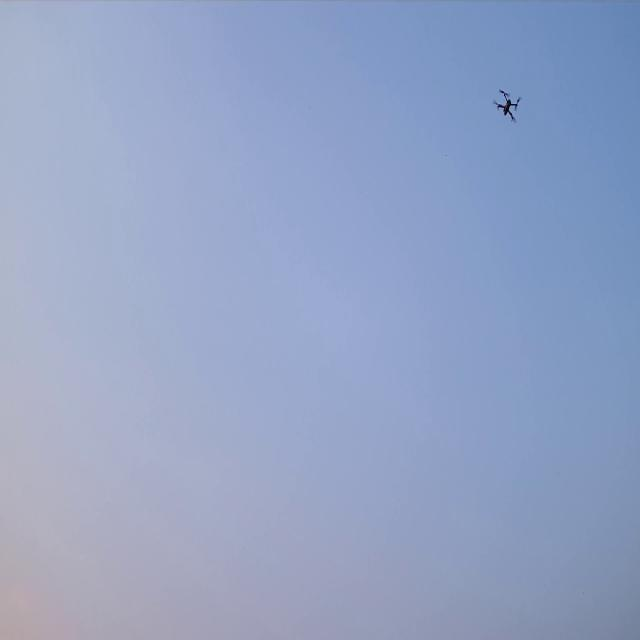UAV: (491, 88, 522, 124)
